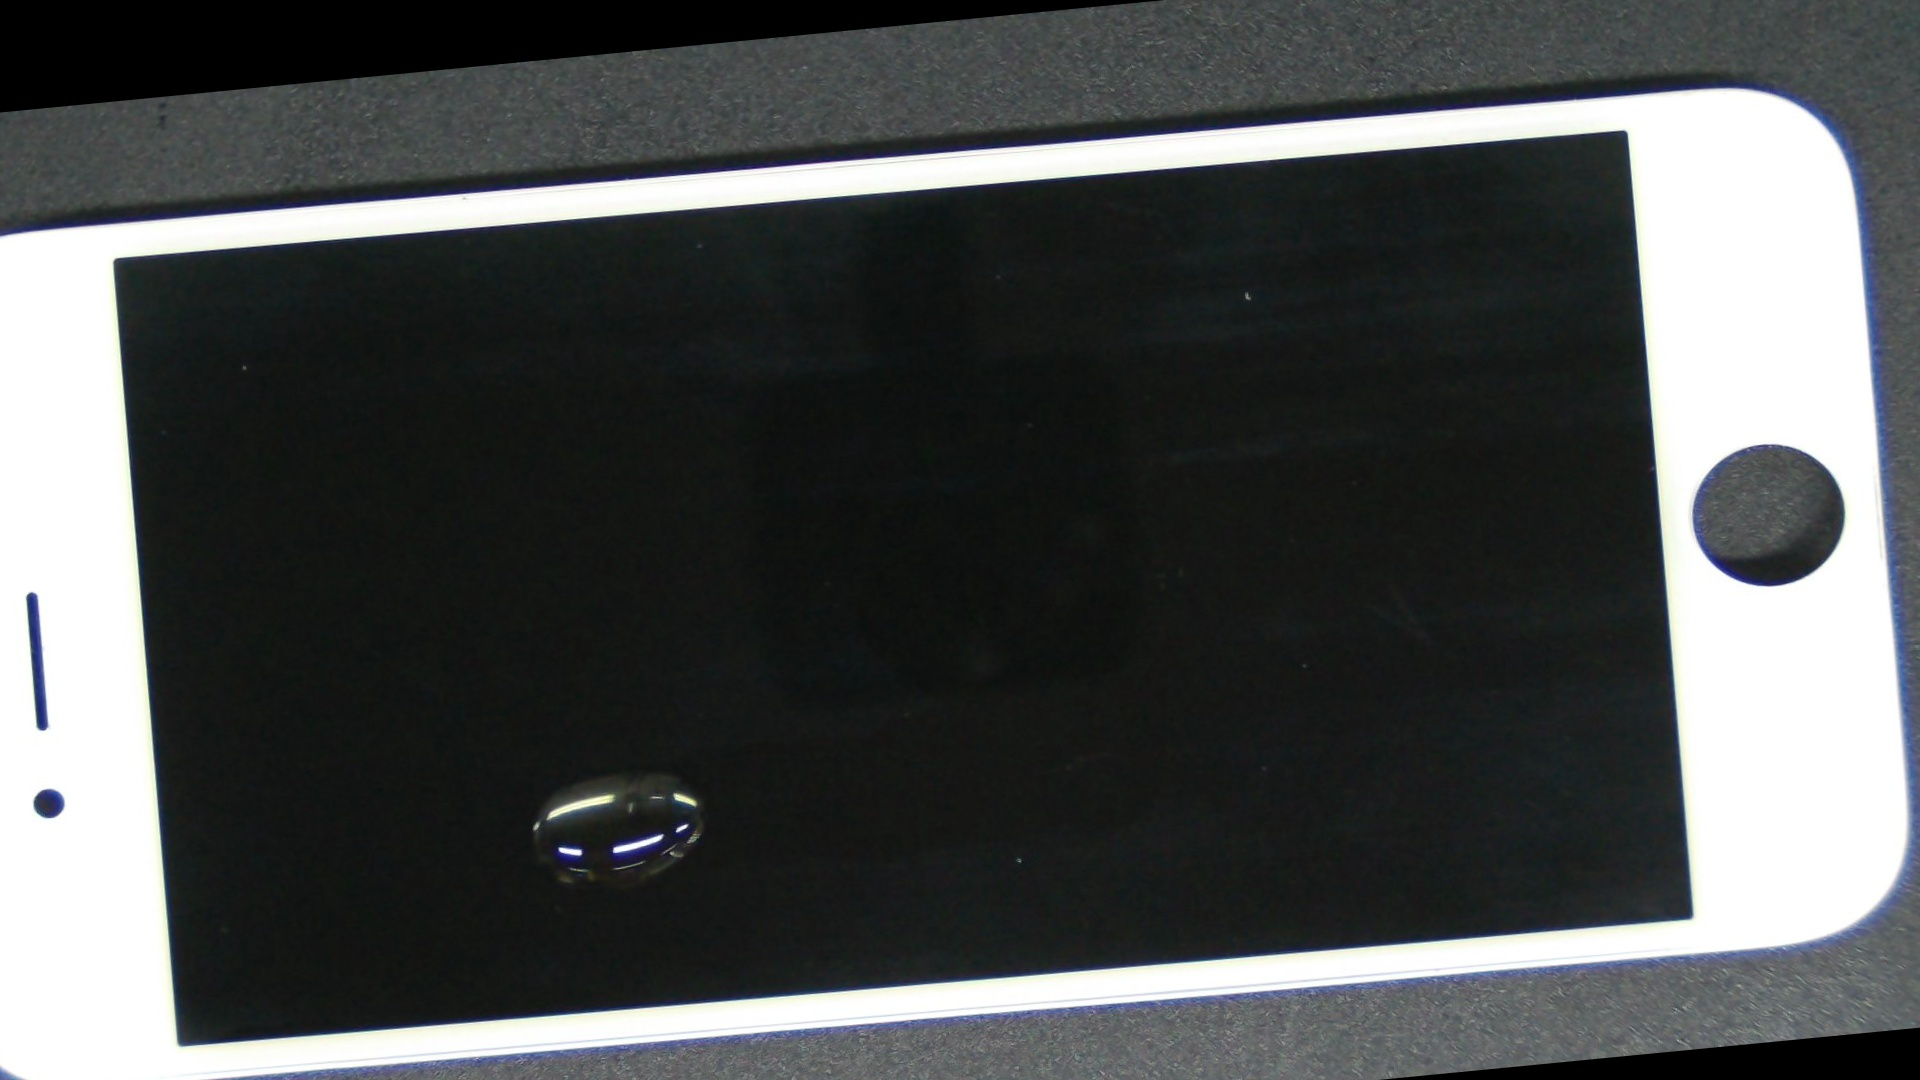oil: (219, 381, 1006, 1080)
